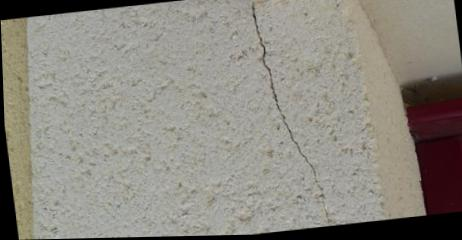crack: (251, 3, 329, 227)
